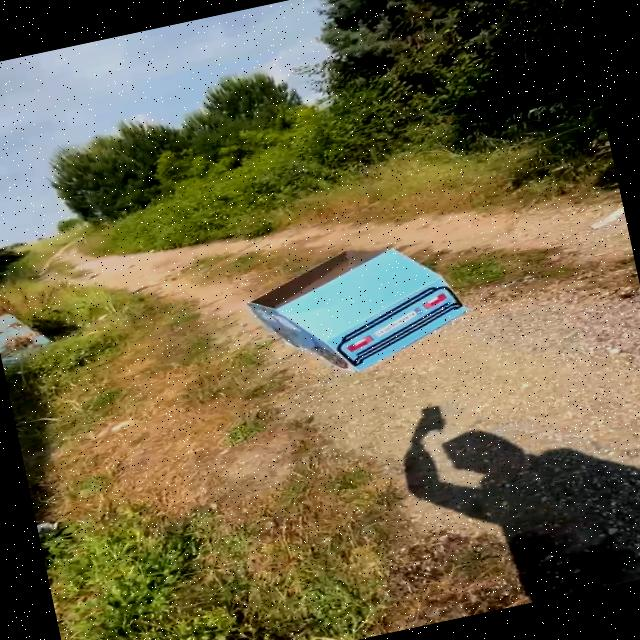blue_car: (232, 207, 495, 406)
